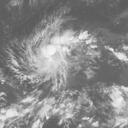cyclone: (34, 31, 84, 81)
